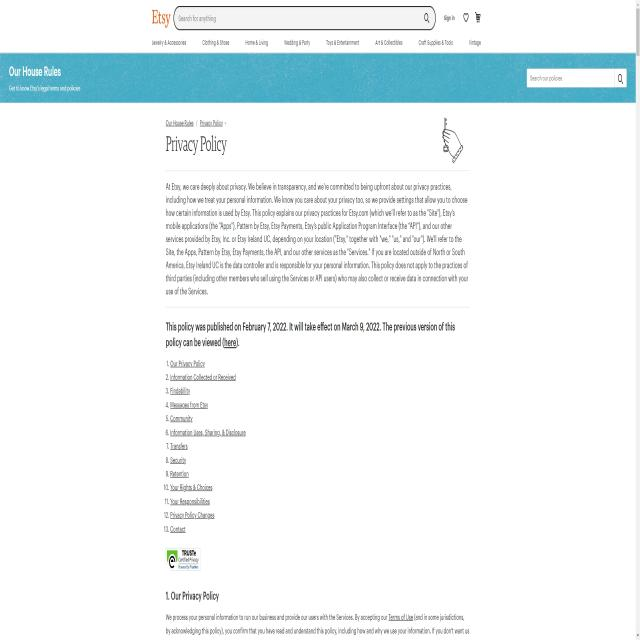menu-bar: (442, 6, 484, 28)
search: (175, 6, 433, 34), (526, 63, 628, 92)
tab-bar: (148, 34, 486, 52)
